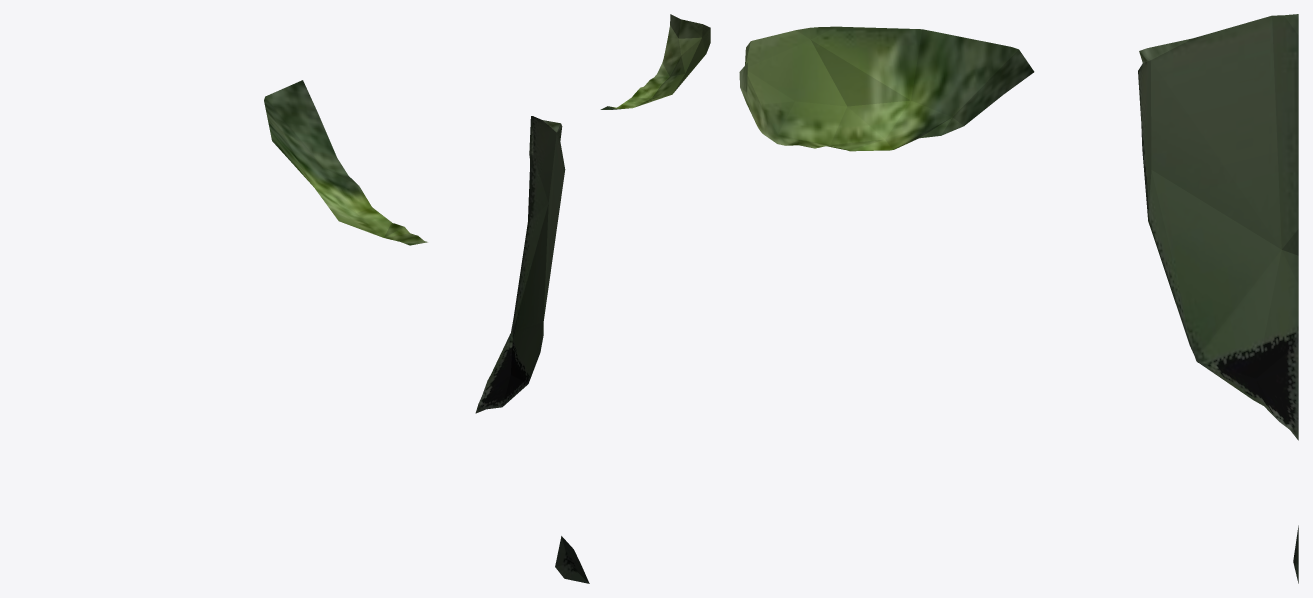
3 views of the same model, side by side, from view 1: azimuth 30°, elevation 25°; view 2: azimuth 150°, elevation 25°; view 3: azimuth 270°, elevation 25° (orthographic). The views are drawn at different scales.
Size of the model in its own units: 1.7 by 5.7 by 5.02.
Materials: 1 (1 with a texture image).
